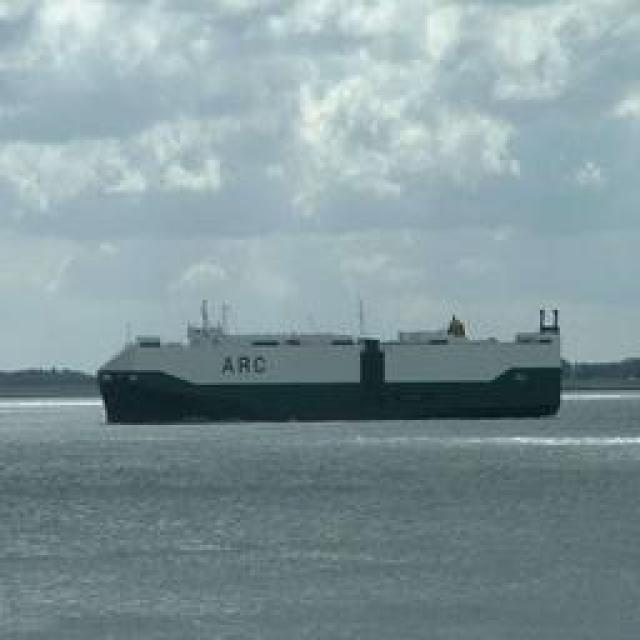CIV_Ship: (100, 301, 562, 421)
